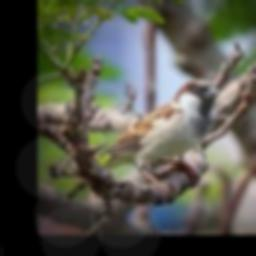Sparrow: (99, 78, 219, 192)
